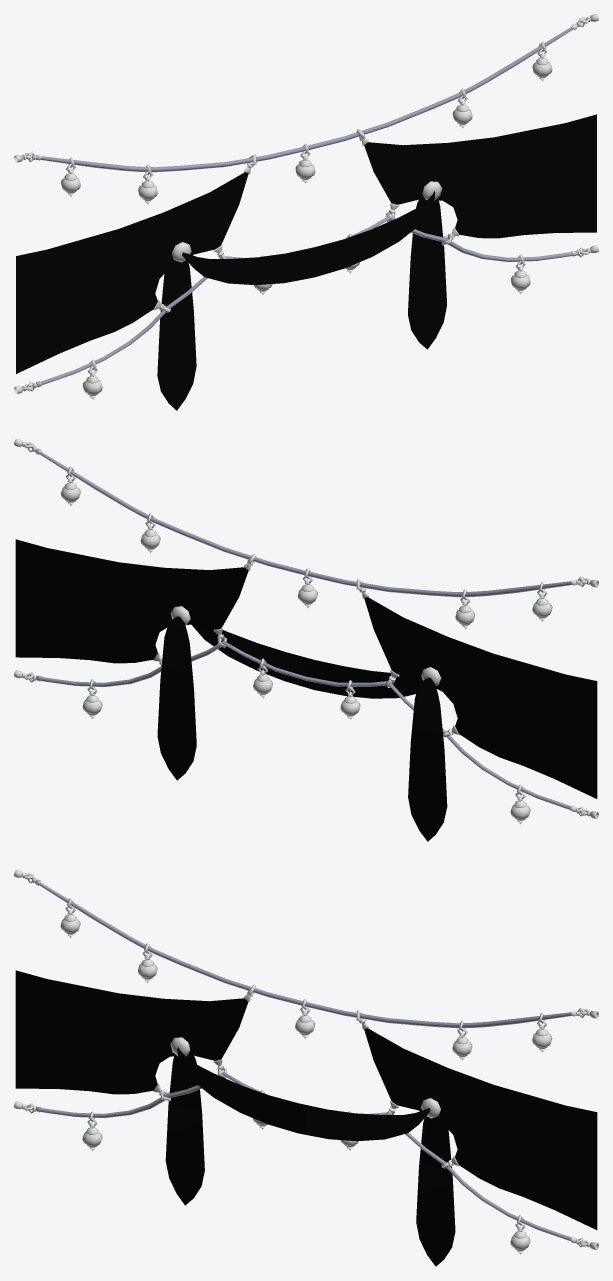
3 views of the same model, one above another, from view 1: azimuth 30°, elevation 25°; view 2: azimuth 150°, elevation 25°; view 3: azimuth 330°, elevation 25° (orthographic).
Visible parts, largest first — view 1: G:\FFXIV-MapTools\exports\m5f1\bg\ex4\02_mid_m5\fld\m5f1\bgp (×4); view 2: G:\FFXIV-MapTools\exports\m5f1\bg\ex4\02_mid_m5\fld\m5f1\bgp (×4); view 3: G:\FFXIV-MapTools\exports\m5f1\bg\ex4\02_mid_m5\fld\m5f1\bgp (×4).
Boxes of the visible parts, left/top/right/bottom form: G:\FFXIV-MapTools\exports\m5f1\bg\ex4\02_mid_m5\fld\m5f1\bgp (×4): left=14, top=14, right=598, bottom=410; G:\FFXIV-MapTools\exports\m5f1\bg\ex4\02_mid_m5\fld\m5f1\bgp (×4): left=14, top=439, right=598, bottom=841; G:\FFXIV-MapTools\exports\m5f1\bg\ex4\02_mid_m5\fld\m5f1\bgp (×4): left=14, top=870, right=598, bottom=1266.
Size of the model in its own units: 23.26 by 11.41 by 0.9268.
